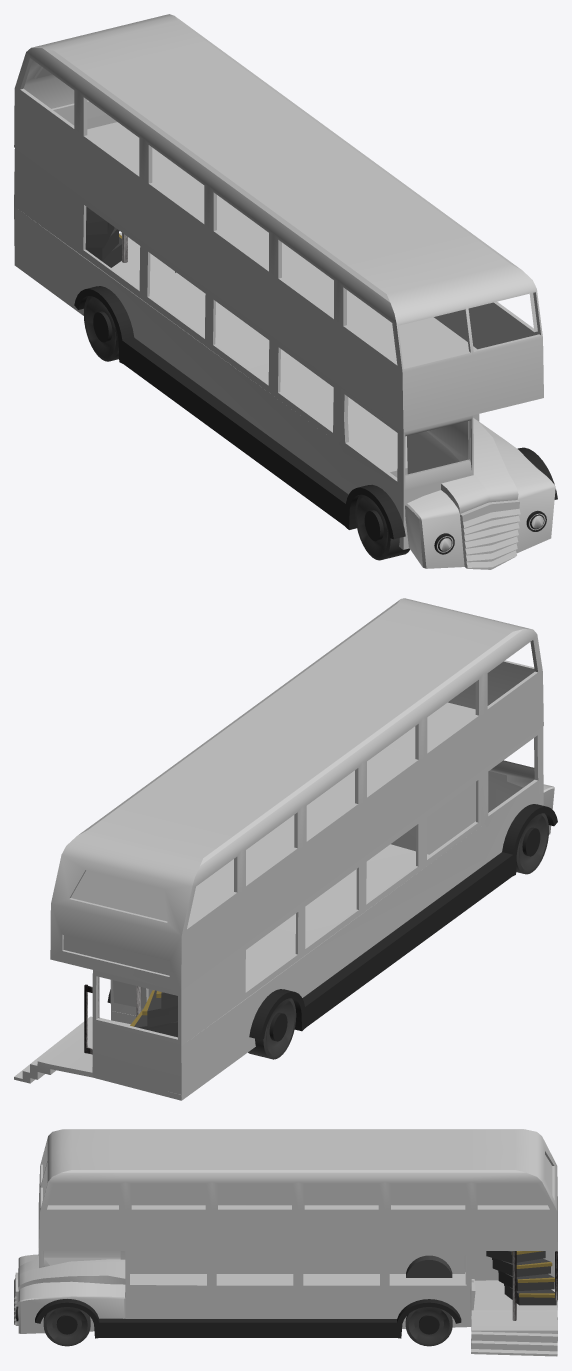
Rendered from bus.fbx.
3 views of the same model, one above another, from view 1: azimuth 30°, elevation 25°; view 2: azimuth 150°, elevation 25°; view 3: azimuth 270°, elevation 25° (orthographic). The views are drawn at different scales.
Visible parts, largest first — view 1: Cube.002; view 2: Cube.002; view 3: Cube.002.
Boxes of the visible parts, bbox=[...] form: Cube.002: bbox=[14, 14, 557, 569]; Cube.002: bbox=[14, 598, 557, 1100]; Cube.002: bbox=[14, 1129, 557, 1356].
Size of the model in its own units: 342 by 441 by 1257.
